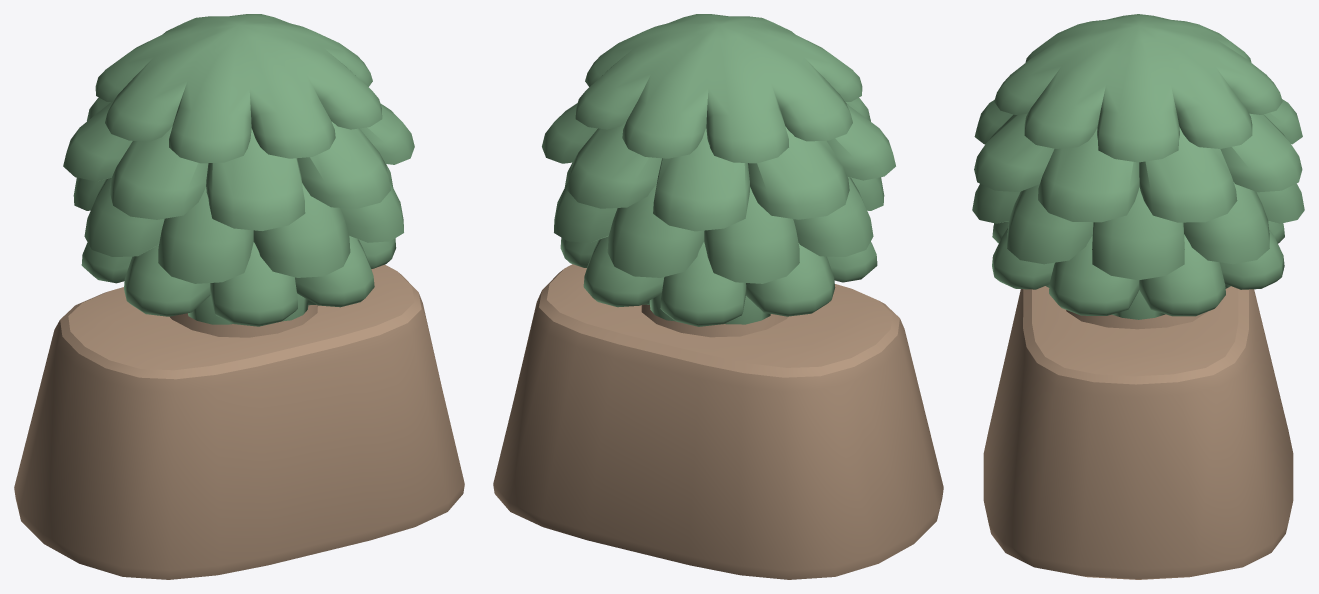
File: layers-kit.glb
3 renders of one model, left to right at view 1: azimuth 30°, elevation 25°; view 2: azimuth 150°, elevation 25°; view 3: azimuth 270°, elevation 25°, orthographic. The views are drawn at different scales.
Visible parts, largest first — view 1: IslandLarge, Tree, IslandTall; view 2: IslandLarge, Tree, IslandTall; view 3: Tree, IslandLarge, IslandTall.
Boxes of the visible parts, x1,y1,x2,y2 form: IslandLarge: (14, 264, 464, 579); Tree: (63, 14, 414, 326); IslandTall: (170, 305, 317, 337); IslandLarge: (493, 264, 943, 579); Tree: (542, 14, 895, 326); IslandTall: (641, 304, 788, 337); Tree: (972, 14, 1304, 319); IslandLarge: (983, 286, 1293, 579); IslandTall: (1066, 310, 1207, 329).
Size of the model in its own units: 3.69 by 4.31 by 2.77.
